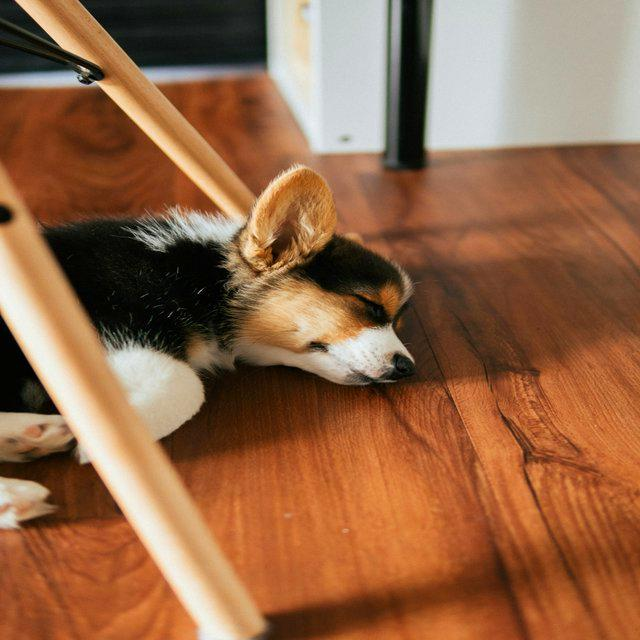corgi: (1, 162, 419, 531)
